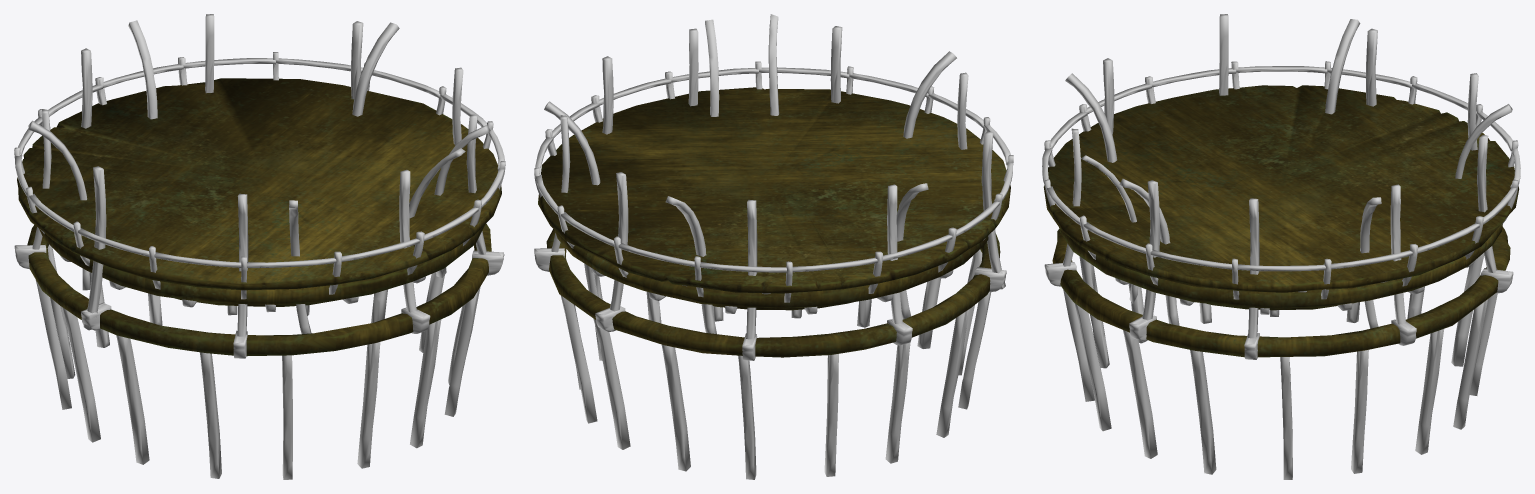
Rendered from SM_platform_raised_bordered.fbx.
3 renders of one model, left to right at view 1: azimuth 30°, elevation 25°; view 2: azimuth 150°, elevation 25°; view 3: azimuth 270°, elevation 25°, orthographic. The views are drawn at different scales.
Visible parts, largest first — view 1: platform_raised_bordered; view 2: platform_raised_bordered; view 3: platform_raised_bordered.
Part boxes in pixels (bbox=[...]): platform_raised_bordered: bbox=[14, 14, 505, 479]; platform_raised_bordered: bbox=[534, 14, 1013, 479]; platform_raised_bordered: bbox=[1042, 14, 1520, 479].
Size of the model in its own units: 2246 by 1503 by 2246.
